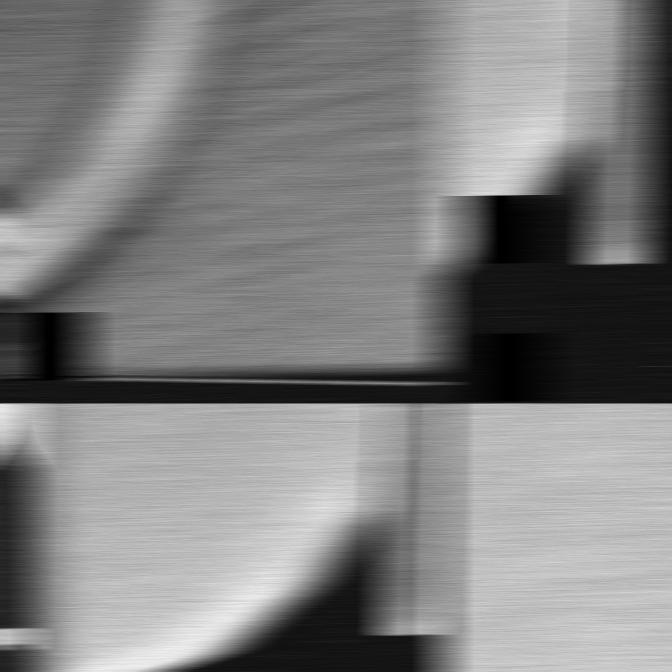Airbag: (0, 0, 450, 403), (25, 403, 394, 672), (436, 403, 672, 672), (435, 0, 602, 269)
